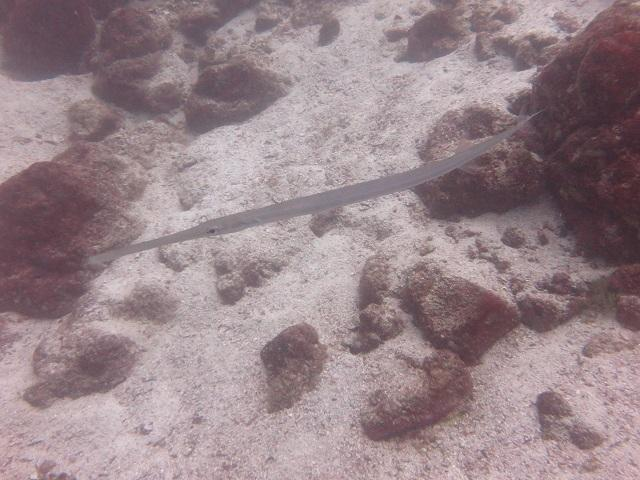Fistularia commersonii: (86, 100, 571, 330)
